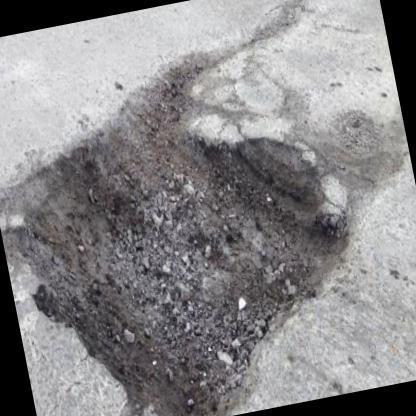pothole: (15, 99, 354, 416)
